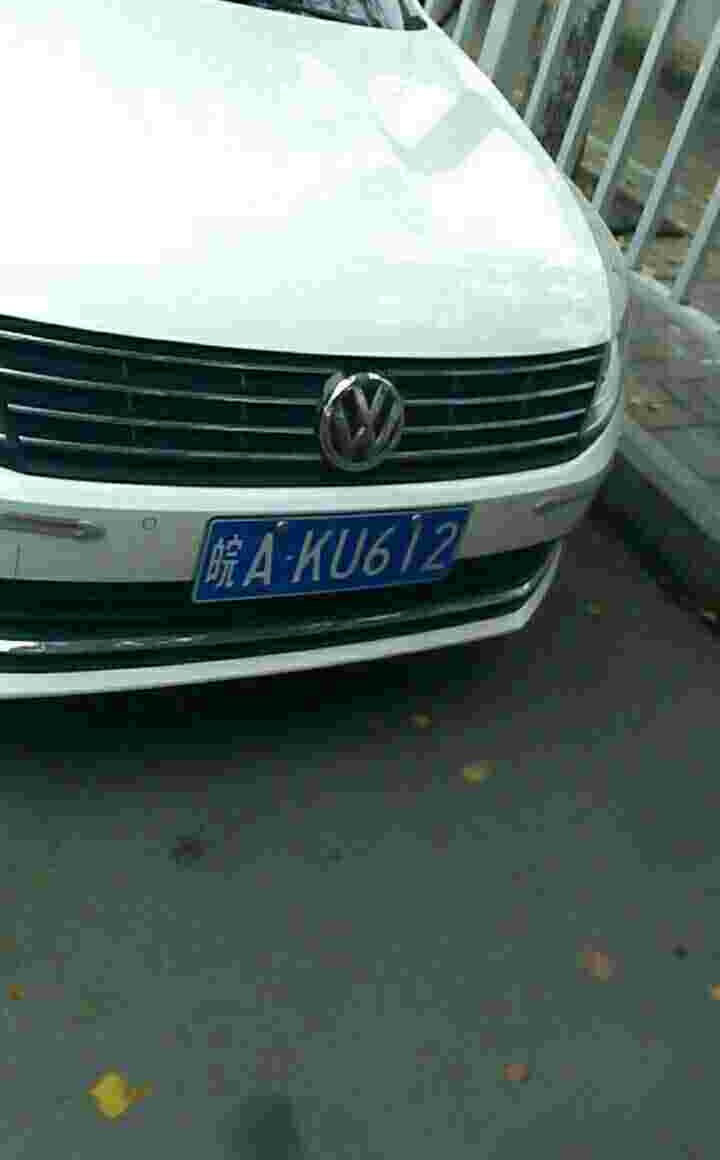license_plate: (197, 505, 476, 602)
